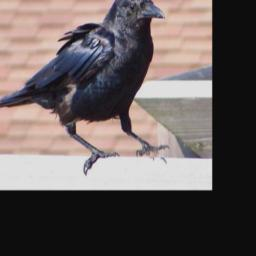Crow: (0, 0, 169, 176)
